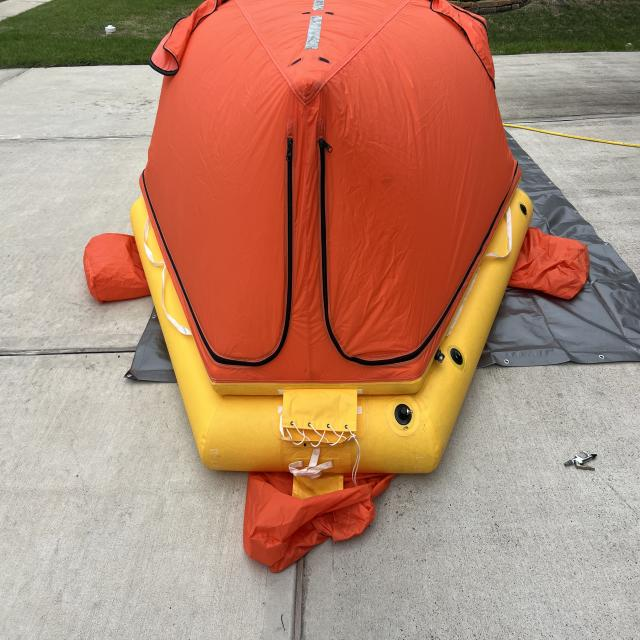Multi-person_life_raft: (84, 1, 590, 576)
